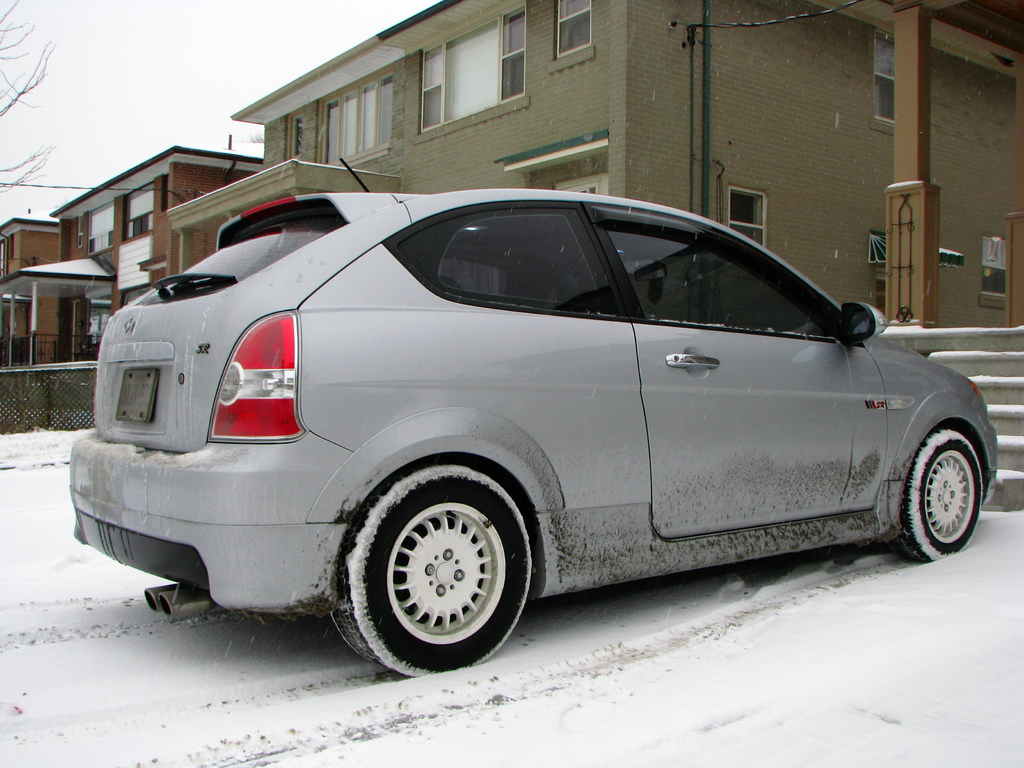Car: (71, 165, 1022, 684)
